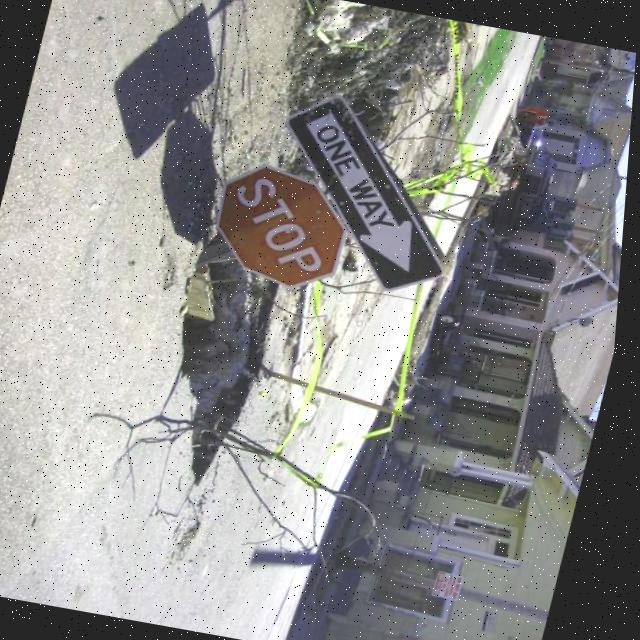Pothole: (127, 174, 317, 496), (175, 510, 228, 550)
